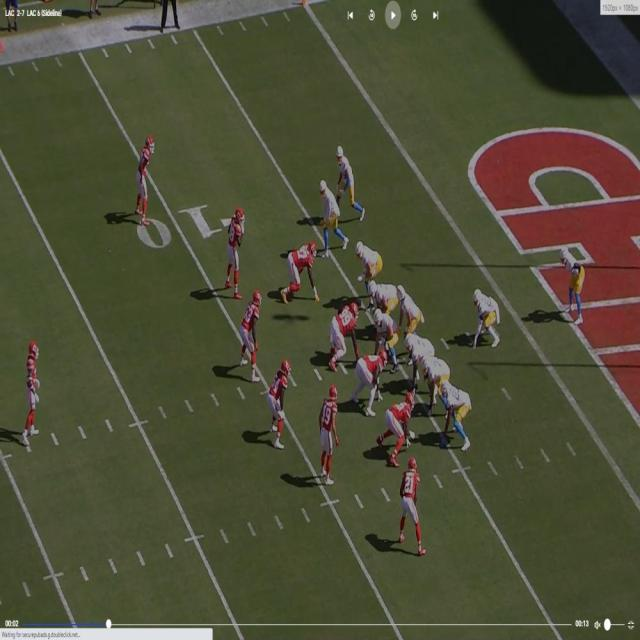center: (372, 308, 398, 360)
db: (399, 462, 418, 548), (324, 390, 340, 480), (137, 139, 153, 220), (28, 342, 40, 446)
lb: (224, 212, 243, 298), (244, 294, 263, 376), (273, 366, 291, 446)
qb: (398, 288, 422, 330)
skill: (318, 176, 347, 247), (338, 144, 363, 210), (562, 242, 580, 318), (473, 288, 496, 344)
